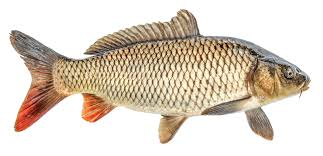carp: (9, 8, 312, 141)
